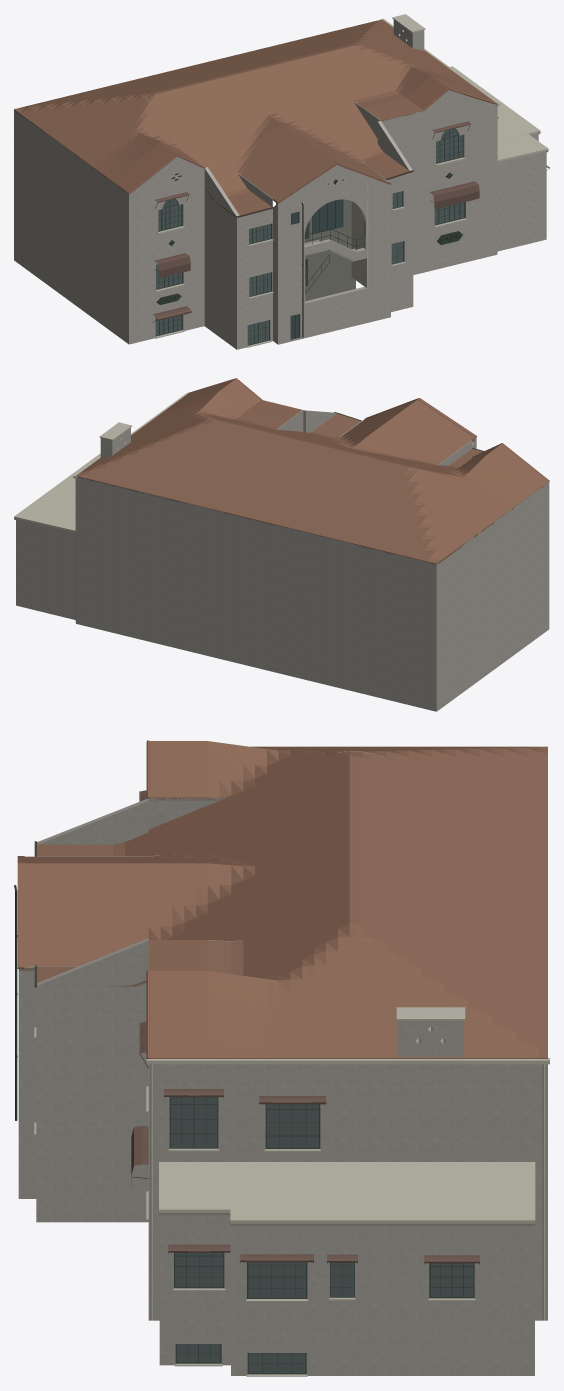
Rendered from xuhui-huashan-823-827-stair-loggia-lod.glb.
3 views of the same model, one above another, from view 1: azimuth 30°, elevation 25°; view 2: azimuth 150°, elevation 25°; view 3: azimuth 270°, elevation 25° (orthographic). The views are drawn at different scales.
Visible parts, largest first — view 1: 华山路823、825、827号院临街住宅三山墙与明梯; view 2: 华山路823、825、827号院临街住宅三山墙与明梯; view 3: 华山路823、825、827号院临街住宅三山墙与明梯.
Part boxes in pixels (x1,y1,x2,y2): 华山路823、825、827号院临街住宅三山墙与明梯: [14, 14, 549, 349]; 华山路823、825、827号院临街住宅三山墙与明梯: [14, 378, 549, 711]; 华山路823、825、827号院临街住宅三山墙与明梯: [14, 740, 549, 1376].
Size of the model in its own units: 25.42 by 10.36 by 15.48.
17 materials, 1 textured.
